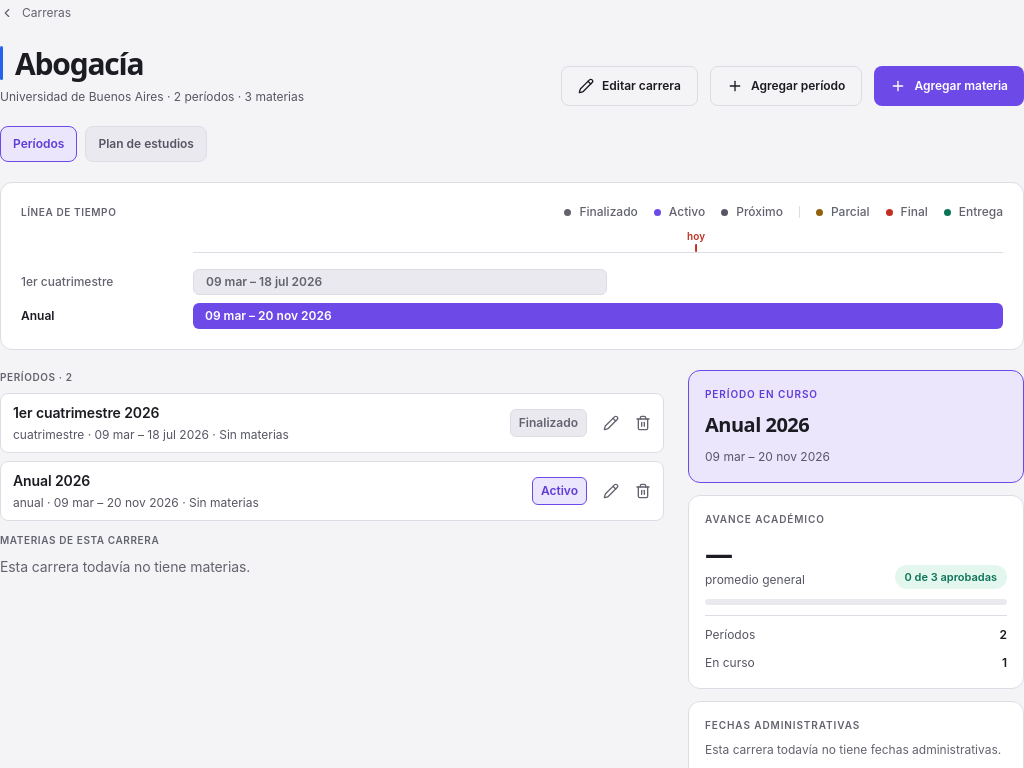
Test case: CarreraDetailContainer — editar y eliminar períodos › opens the period already filled in
The width and height of the screenshot is (1024, 768).
Expected: the heading "Abogacía" is shown, [15, 46, 144, 80]
What coordinates should you click on to do the following:
click the button named "Editar 1er cuatrimestre"
I would click on:
 (611, 423)
Its box is [595, 407, 627, 439].
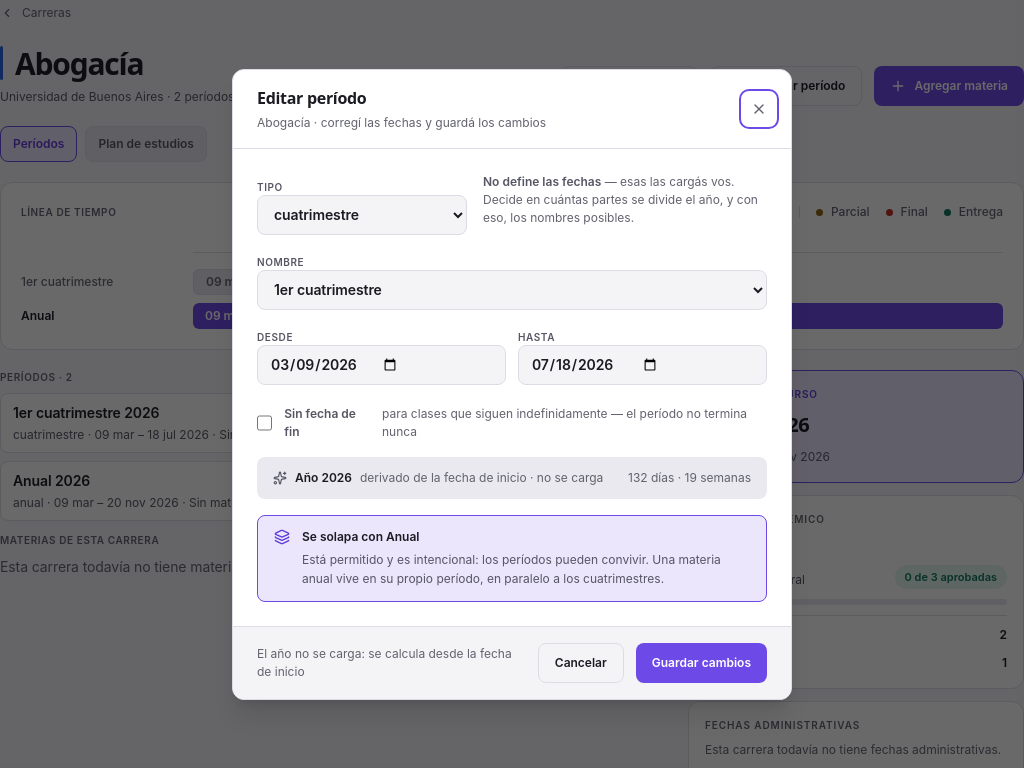
Result: the dropdown labelled "NOMBRE" shows "1er cuatrimestre" at [257, 270, 767, 310]
Result: the dropdown labelled "TIPO" shows "cuatrimestre" at [257, 194, 467, 234]
Result: the date field labelled "DESDE" holds "2026-03-09" at [257, 344, 506, 384]
